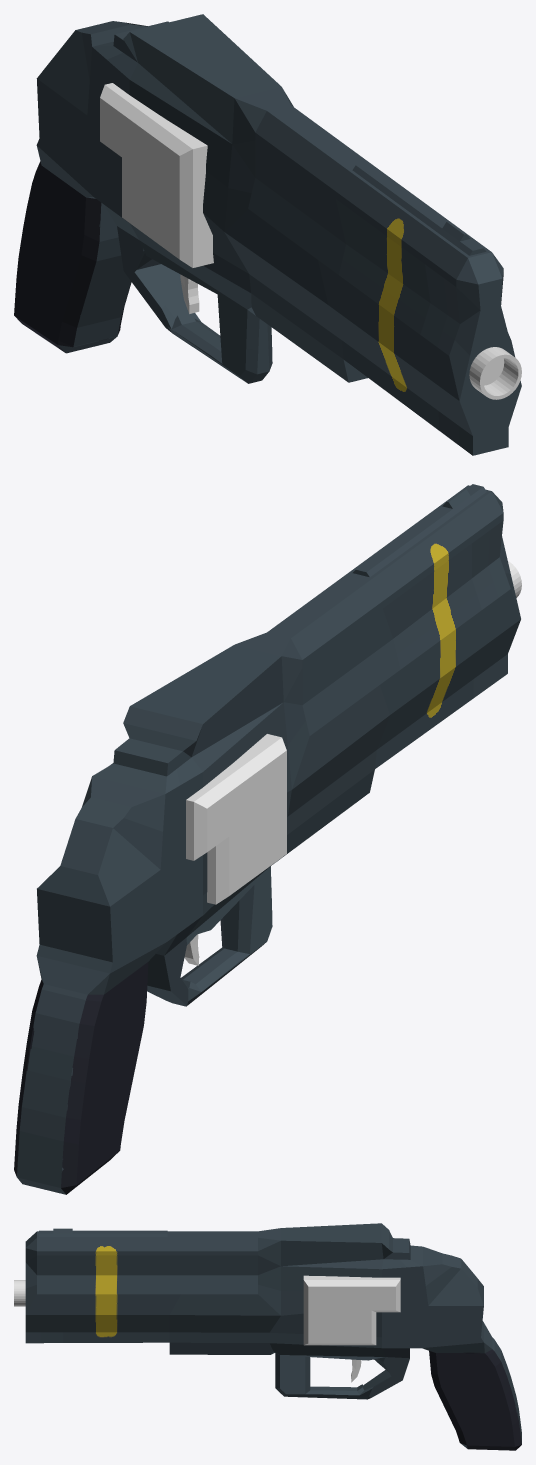
The model's file is revolver.fbx.
The picture shows the model from 3 angles, top to bottom: view 1: azimuth 30°, elevation 25°; view 2: azimuth 150°, elevation 25°; view 3: azimuth 270°, elevation 25°; orthographic projection. The views are drawn at different scales.
Visible parts, largest first — view 1: Cube, Cube.002, Cylinder, Cube.001; view 2: Cube, Cube.002; view 3: Cube, Cube.002, Cylinder.
Boxes of the visible parts, bbox=[...] form: Cube: bbox=[14, 14, 521, 455]; Cube.002: bbox=[100, 83, 213, 267]; Cylinder: bbox=[469, 347, 521, 399]; Cube.001: bbox=[180, 274, 199, 313]; Cube: bbox=[14, 484, 520, 1194]; Cube.002: bbox=[186, 734, 286, 904]; Cube: bbox=[25, 1223, 521, 1450]; Cube.002: bbox=[303, 1275, 400, 1345]; Cylinder: bbox=[14, 1280, 25, 1306].
Bounding box in the file's own units: 0.6438 × 2.25 × 4.81.
